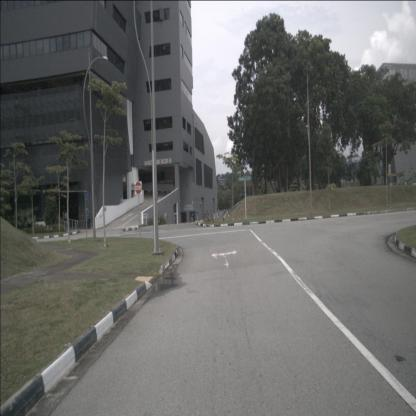human-pedestrian-adult: (86, 210, 90, 229), (63, 209, 66, 228), (65, 211, 68, 228)
vehicle-bicycle: (221, 210, 231, 223), (202, 212, 212, 224), (212, 209, 220, 223), (206, 212, 214, 223)
